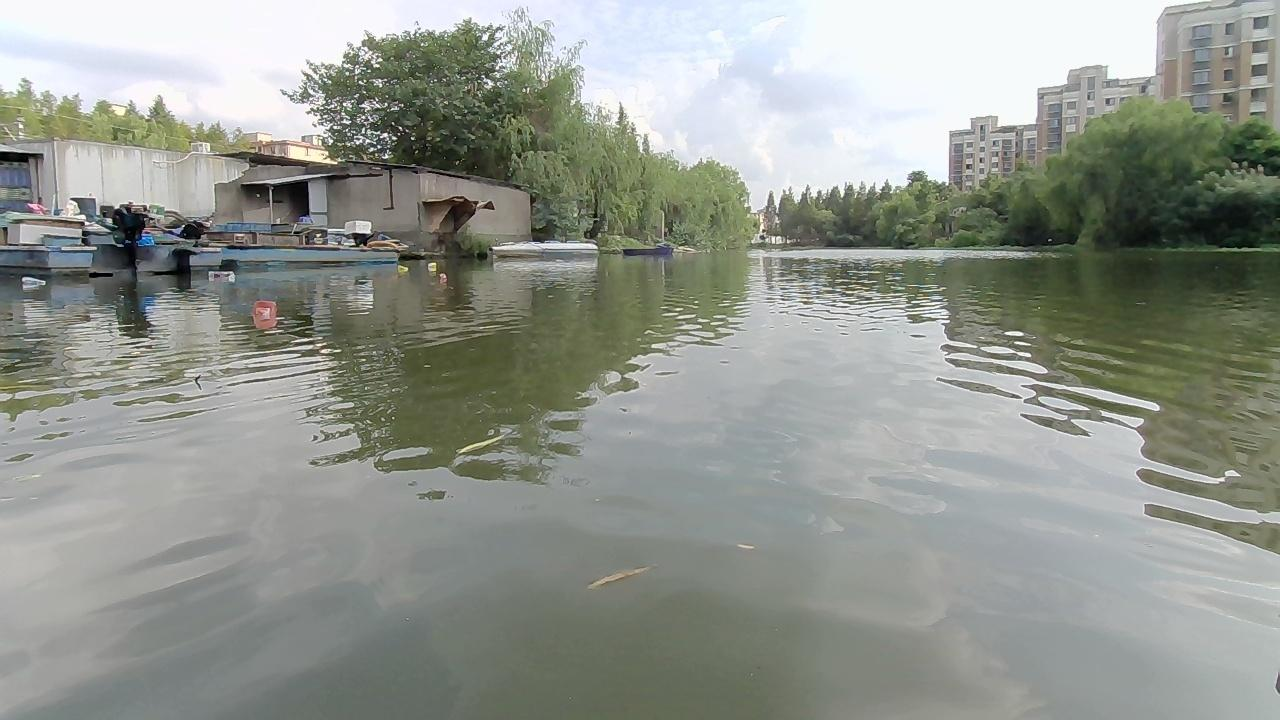bottle: (21, 272, 54, 288), (202, 268, 238, 279), (392, 262, 409, 276), (420, 259, 439, 270), (436, 272, 450, 282)
